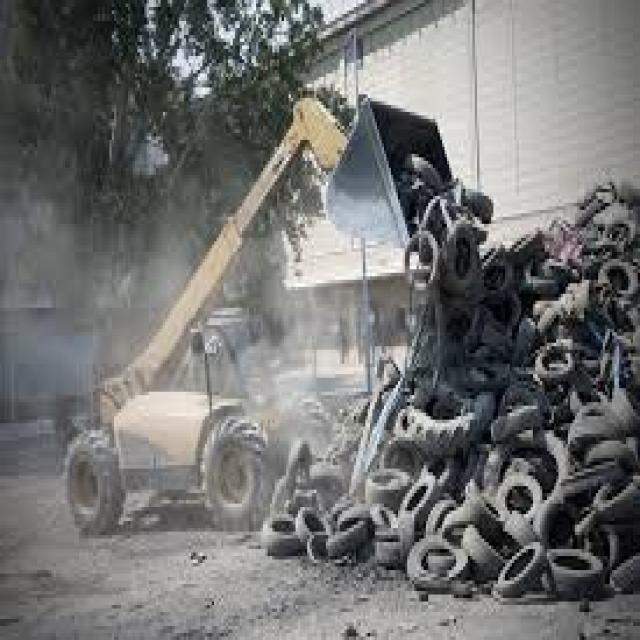Rubber -Non-Biodegradable but Recyclable-: (262, 161, 640, 596)
